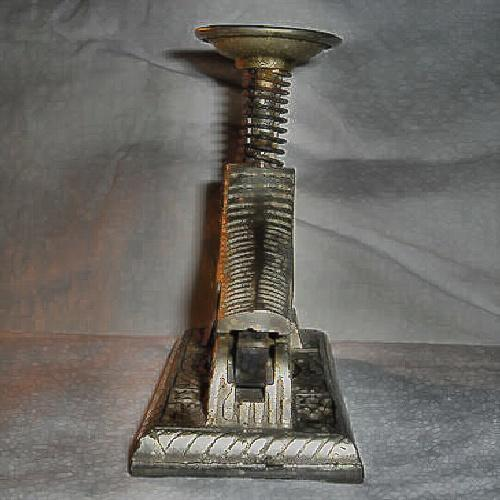stapler: (146, 24, 362, 480)
